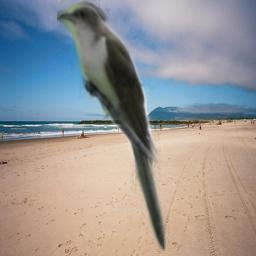Cuckoo: (57, 0, 170, 256)
